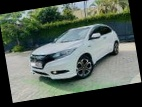car: (24, 20, 124, 87)
